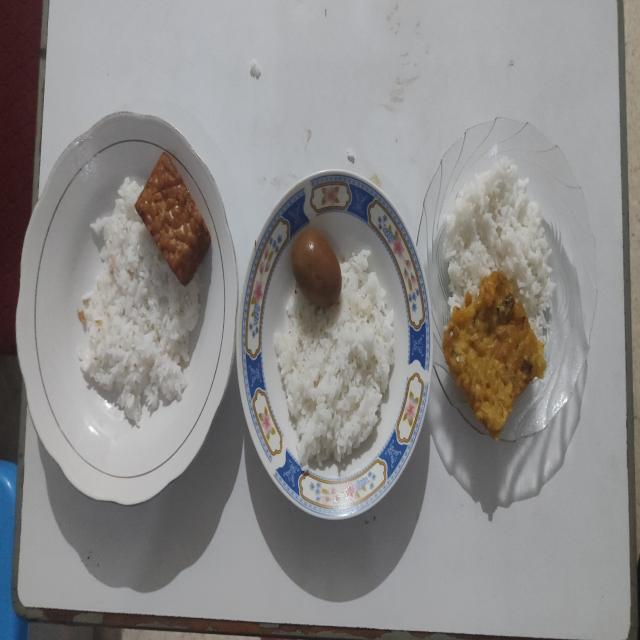nasi_putih: (80, 180, 200, 426), (274, 250, 394, 465), (443, 157, 555, 334)
tempe_goreng: (135, 152, 210, 285)
